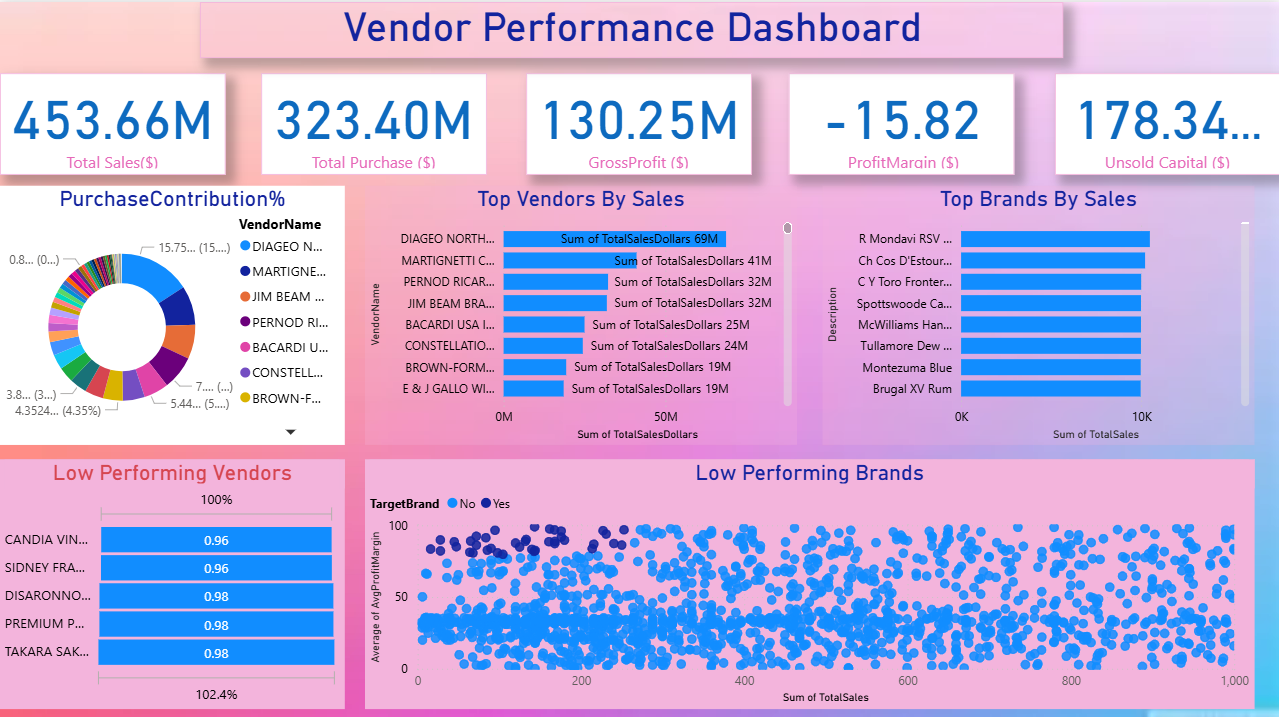

This screenshot's page, from the dashboard's own definition file:
{"tool":"powerbi","page":{"name":"Page 1","canvas":[1280,720],"ordinal":0},"visuals":[{"type":"card","fields":{"Values":["Sum(Vendor_Sales_Summary.TotalSalesDollars)"]},"box":[0,71.2,225.6,101.3],"z":0},{"type":"card","fields":{"Values":["Sum(Vendor_Sales_Summary.TotalPurchaseDollars)"]},"box":[261.8,71.2,225.6,101.3],"z":1000},{"type":"card","fields":{"Values":["Avg(Vendor_Sales_Summary.ProfitMargin)"]},"box":[789,71.2,225.6,101.3],"z":2000},{"type":"card","fields":{"Values":["Sum(Vendor_Sales_Summary.GrossProfit)"]},"box":[526,71.2,225.6,101.3],"z":3000},{"type":"card","fields":{"Values":["Vendor_Sales_Summary.UnsoloCapital"]},"box":[1054.4,71.2,225.6,101.3],"z":4000},{"type":"donutChart","title":" PurchaseContribution% ","fields":{"Category":["Purchase_Contribution.VendorName"],"Y":["Sum(Purchase_Contribution.PurchaseContribution)"]},"box":[0,183.4,345,259.4],"z":5000},{"type":"clusteredBarChart","title":"Top Vendors By Sales","fields":{"Category":["Vendor_Sales_Summary.VendorName"],"Y":["Sum(Vendor_Sales_Summary.TotalSalesDollars)"]},"box":[365.6,183.4,431.9,259.4],"z":6000},{"type":"clusteredBarChart","title":"Top Brands By Sales","fields":{"Category":["Brand_Performance.Description"],"Y":["Sum(Brand_Performance.TotalSalesDollars)"]},"box":[822.8,183.4,431.9,259.4],"z":7000},{"type":"funnel","title":"Low Performing Vendors","fields":{"Category":["LowTurnoverVendor.VendorName"],"Y":["Avg(LowTurnoverVendor.AvgStockTurnOver)"]},"box":[0,457.6,344.6,249.2],"z":8000},{"type":"scatterChart","title":"Low Performing Brands","fields":{"Category":["Brand_Performance.Description"],"X":["Sum(Brand_Performance.TotalSales)"],"Y":["Avg(Brand_Performance.ProfitMargin)"],"Series":["Brand_Performance.TargetBrand"]},"box":[365,457.6,889.4,249.2],"z":9000},{"type":"textbox","title":"Vendor Performance Dashboard","box":[200.2,0,863.5,55.8],"z":10000}]}

Visuals, with their boxes in screenshot pixels (x1, y1, x2, y2), scaled from the page's 1280x720 canvas onto the 1279x717 screenshot:
card - Sum(Vendor_Sales_Summary.TotalSalesDollars): bbox=(0, 71, 225, 172)
card - Sum(Vendor_Sales_Summary.TotalPurchaseDollars): bbox=(262, 71, 487, 172)
card - Avg(Vendor_Sales_Summary.ProfitMargin): bbox=(788, 71, 1014, 172)
card - Sum(Vendor_Sales_Summary.GrossProfit): bbox=(526, 71, 751, 172)
card - Vendor_Sales_Summary.UnsoloCapital: bbox=(1054, 71, 1278, 172)
" PurchaseContribution% " donutChart: bbox=(0, 183, 345, 441)
"Top Vendors By Sales" clusteredBarChart: bbox=(365, 183, 797, 441)
"Top Brands By Sales" clusteredBarChart: bbox=(822, 183, 1254, 441)
"Low Performing Vendors" funnel: bbox=(0, 456, 344, 704)
"Low Performing Brands" scatterChart: bbox=(365, 456, 1253, 704)
"Vendor Performance Dashboard" textbox: bbox=(200, 0, 1063, 56)
